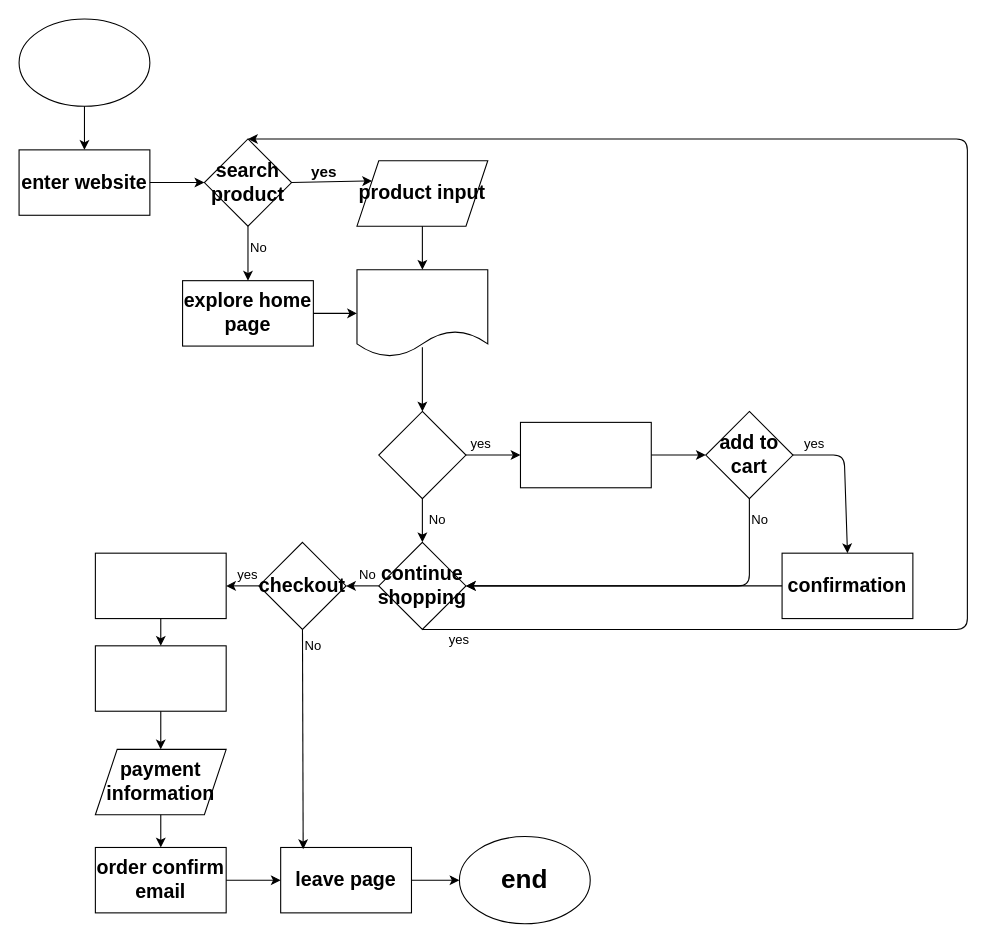
Image size: 995x943. Some labels were removed from this diagram. Each missing label, with the centre of its shape:
cart screen: the point at 160,585
open page: the point at 585,454
payment screen: the point at 160,678
product results: the point at 422,313
start: the point at 84,62
view specific product: the point at 422,454
